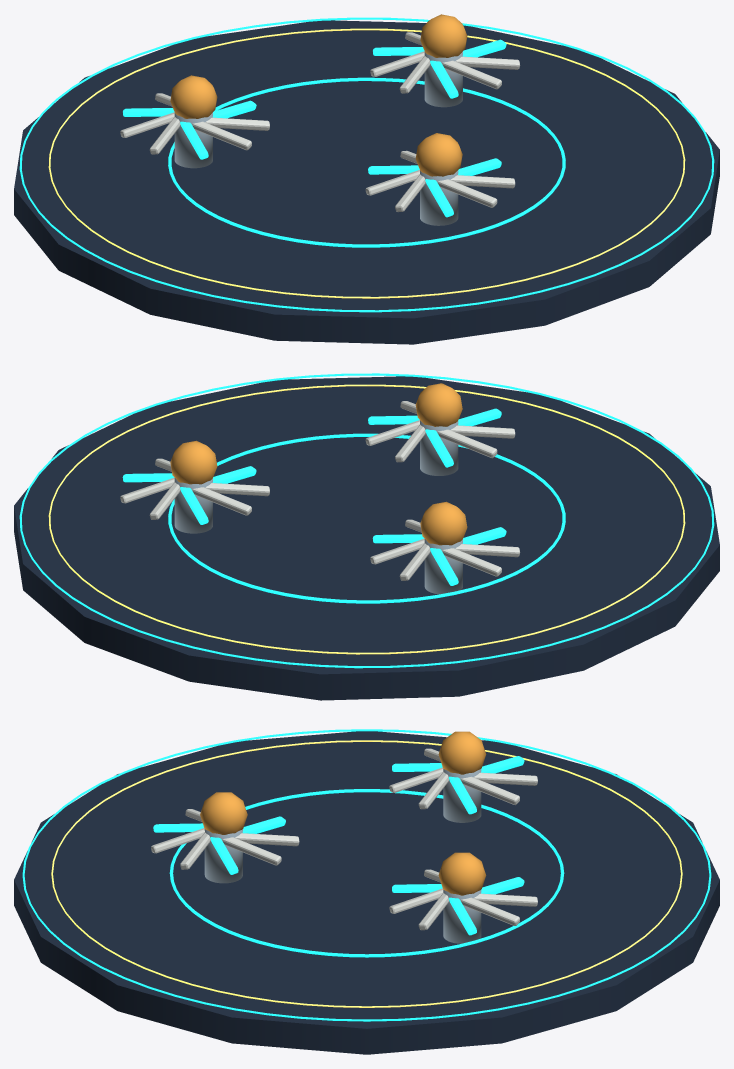
The picture shows the model from 3 angles, top to bottom: view 1: azimuth 30°, elevation 25°; view 2: azimuth 150°, elevation 25°; view 3: azimuth 270°, elevation 25°; orthographic projection.
Parts seen in each view (by area): view 1: Shape, Shape.001, Shape.002, Shape.003, Turbine cap.001, Turbine cap, Turbine cap.002, Turbine spindle, Turbine spindle.001, Turbine spindle.002, Turbine blade 7.002, Turbine blade 7 (+4 smaller); view 2: Shape, Shape.001, Shape.002, Shape.003, Turbine cap, Turbine cap.001, Turbine cap.002, Turbine spindle.001, Turbine spindle.002, Turbine spindle, Turbine blade 4.002, Turbine blade 4 (+7 smaller); view 3: Shape, Shape.001, Shape.002, Shape.003, Turbine cap, Turbine cap.001, Turbine cap.002, Turbine spindle.002, Turbine spindle, Turbine spindle.001, Turbine blade 1.002, Turbine blade 1 (+4 smaller).
Part boxes in pixels (left/top/right/bottom): Shape: left=14, top=20, right=719, bottom=344; Shape.001: left=19, top=17, right=714, bottom=312; Shape.002: left=48, top=28, right=685, bottom=298; Shape.003: left=168, top=77, right=565, bottom=247; Turbine cap.001: left=420, top=14, right=467, bottom=57; Turbine cap: left=170, top=75, right=217, bottom=118; Turbine cap.002: left=415, top=133, right=462, bottom=176; Turbine spindle: left=174, top=112, right=212, bottom=168; Turbine spindle.001: left=424, top=51, right=462, bottom=107; Turbine spindle.002: left=420, top=170, right=458, bottom=225; Turbine blade 7.002: left=437, top=179, right=497, bottom=207; Turbine blade 7: left=192, top=121, right=251, bottom=150; Shape: left=14, top=376, right=719, bottom=700; Shape.001: left=19, top=373, right=714, bottom=668; Shape.002: left=48, top=384, right=685, bottom=654; Shape.003: left=168, top=433, right=565, bottom=603; Turbine cap: left=420, top=501, right=467, bottom=545; Turbine cap.001: left=170, top=440, right=217, bottom=484; Turbine cap.002: left=415, top=383, right=462, bottom=426; Turbine spindle.001: left=174, top=478, right=212, bottom=533; Turbine spindle.002: left=420, top=420, right=458, bottom=475; Turbine spindle: left=424, top=539, right=462, bottom=594; Turbine blade 4.002: left=437, top=429, right=497, bottom=458; Turbine blade 4: left=442, top=548, right=501, bottom=576; Shape: left=14, top=731, right=719, bottom=1054; Shape.001: left=22, top=729, right=711, bottom=1021; Shape.002: left=51, top=740, right=682, bottom=1007; Shape.003: left=169, top=789, right=564, bottom=957; Turbine cap: left=438, top=731, right=486, bottom=774; Turbine cap.001: left=438, top=852, right=486, bottom=895; Turbine cap.002: left=200, top=792, right=247, bottom=834; Turbine spindle.002: left=204, top=829, right=242, bottom=883; Turbine spindle: left=443, top=769, right=481, bottom=822; Turbine spindle.001: left=443, top=890, right=481, bottom=943; Turbine blade 1.002: left=222, top=837, right=281, bottom=865; Turbine blade 1: left=460, top=776, right=519, bottom=805.
Size of the model in its own units: 14.8 by 2.6 by 14.8.
